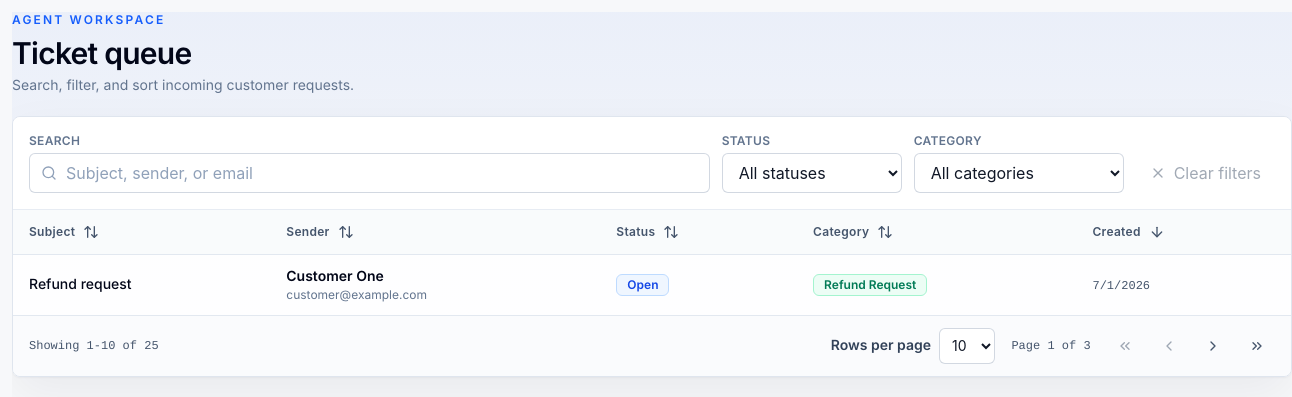
Test: TicketsPage › toggles a clicked column from ascending to descending
Expected: the text "customer@example.com" is shown, [286,286,427,302]
Click the button "Subject": click(64, 232) [21,216,107,248]
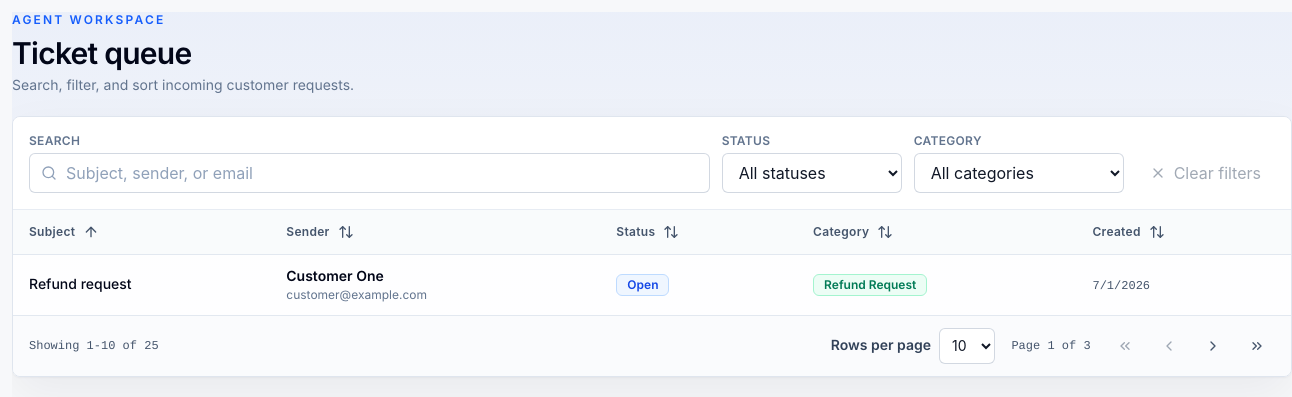
Click the button "Subject": click(64, 232) [21,216,107,248]
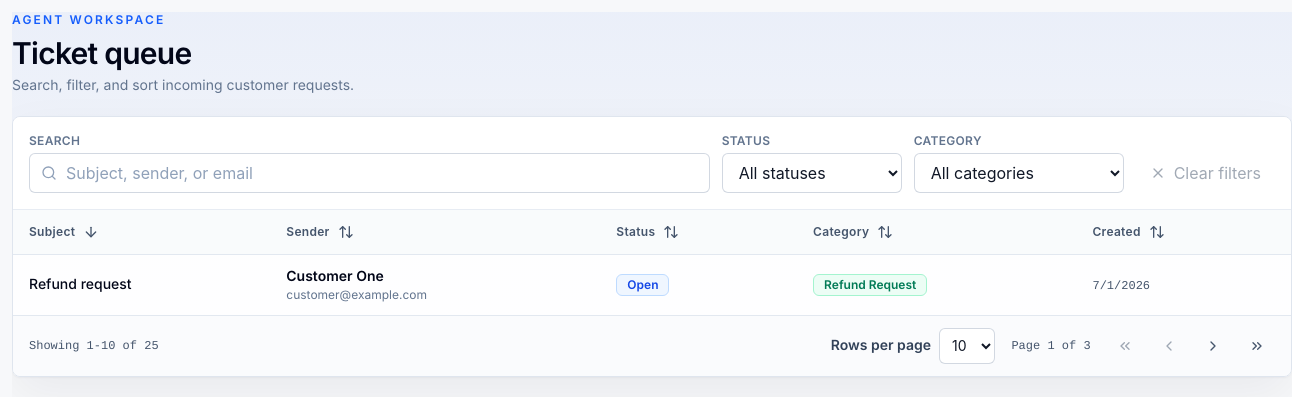
Now the button with aria-label "Subject sorted descending" is shown, box [21,216,107,248]
